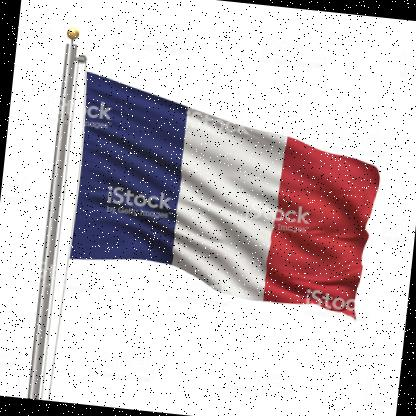fr: (65, 69, 389, 323)
